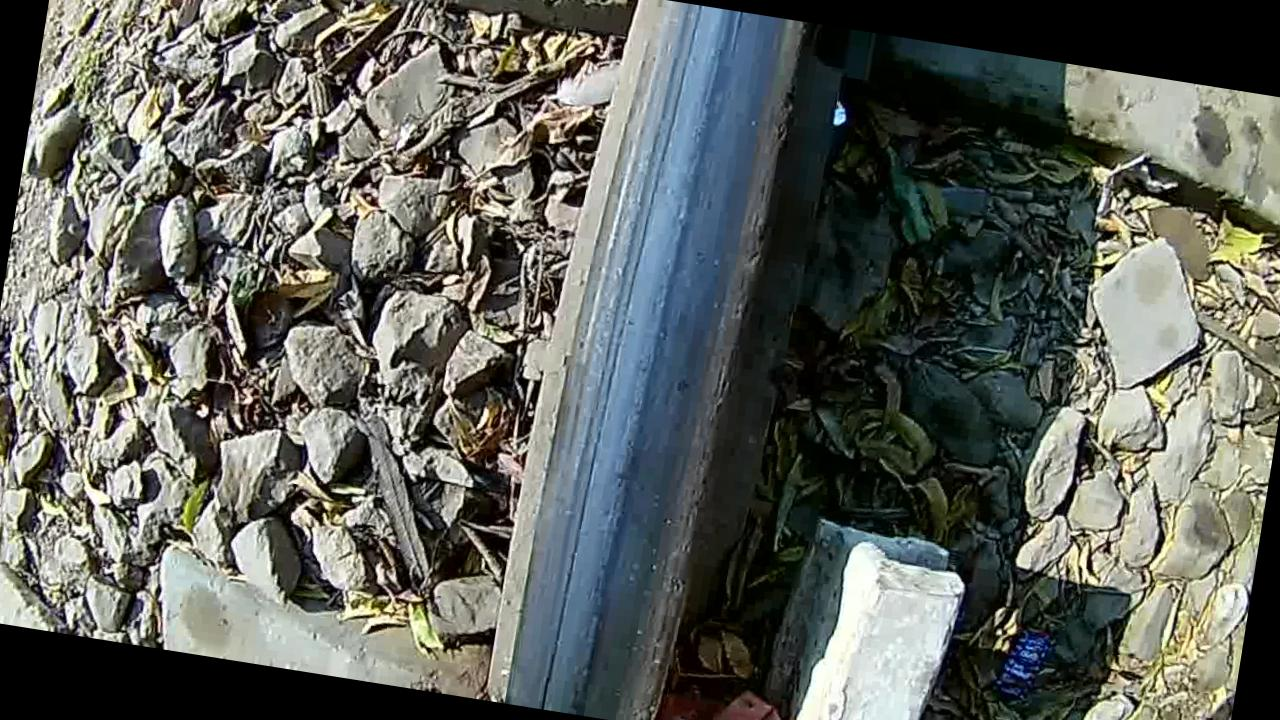clip_missing: (481, 0, 813, 720)
